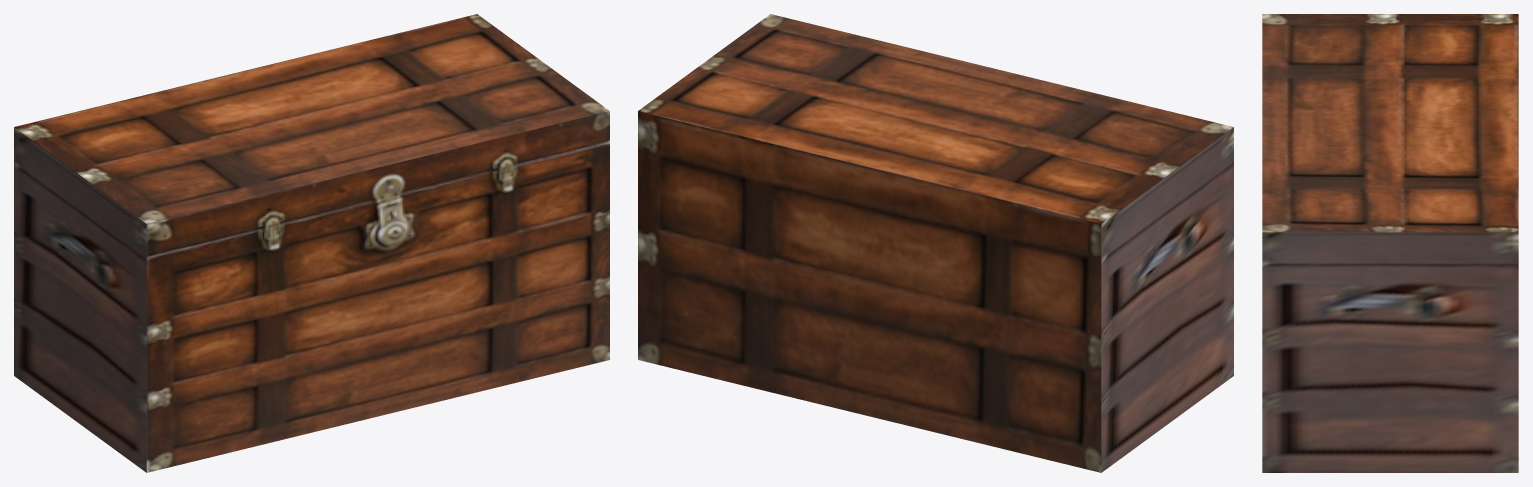
File: chest_1.fbx
3 views of the same model, side by side, from view 1: azimuth 30°, elevation 25°; view 2: azimuth 150°, elevation 25°; view 3: azimuth 270°, elevation 25° (orthographic). The views are drawn at different scales.
Visible parts, largest first — view 1: body, cap; view 2: body, cap; view 3: cap, body.
Boxes of the visible parts, x1,y1,x2,y2 form: body: (14, 144, 609, 472); cap: (14, 14, 609, 256); body: (638, 144, 1233, 472); cap: (638, 14, 1233, 257); cap: (1262, 14, 1518, 264); body: (1262, 264, 1518, 472).
Size of the model in its own units: 160 by 81.98 by 79.18.
